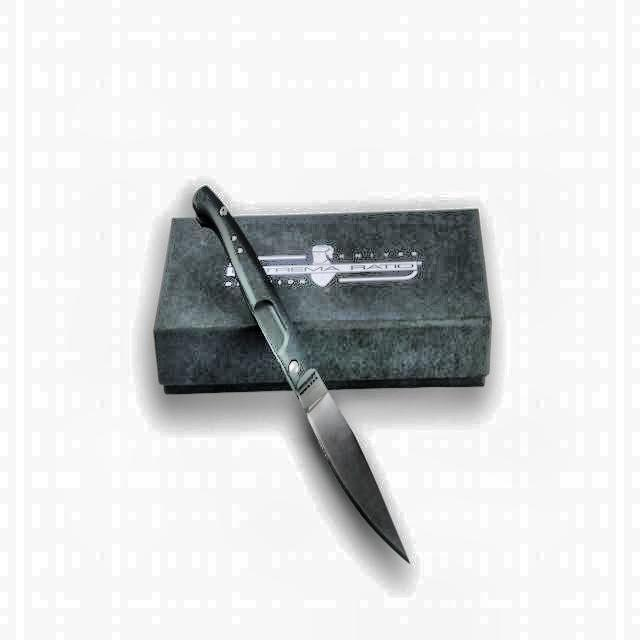knife: (195, 184, 412, 564)
